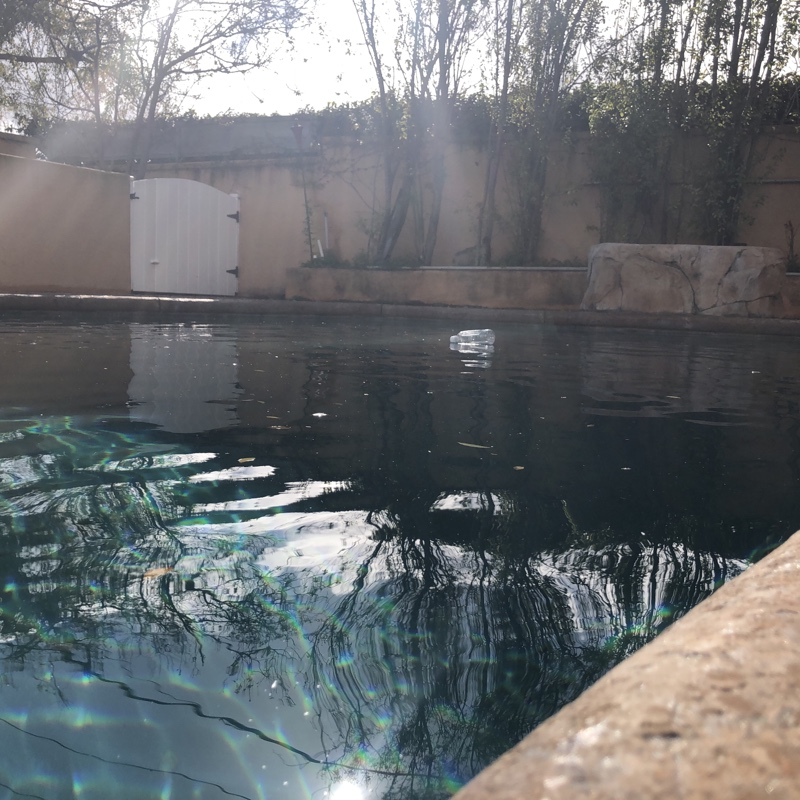Plastic Bottle: (446, 327, 497, 344)
